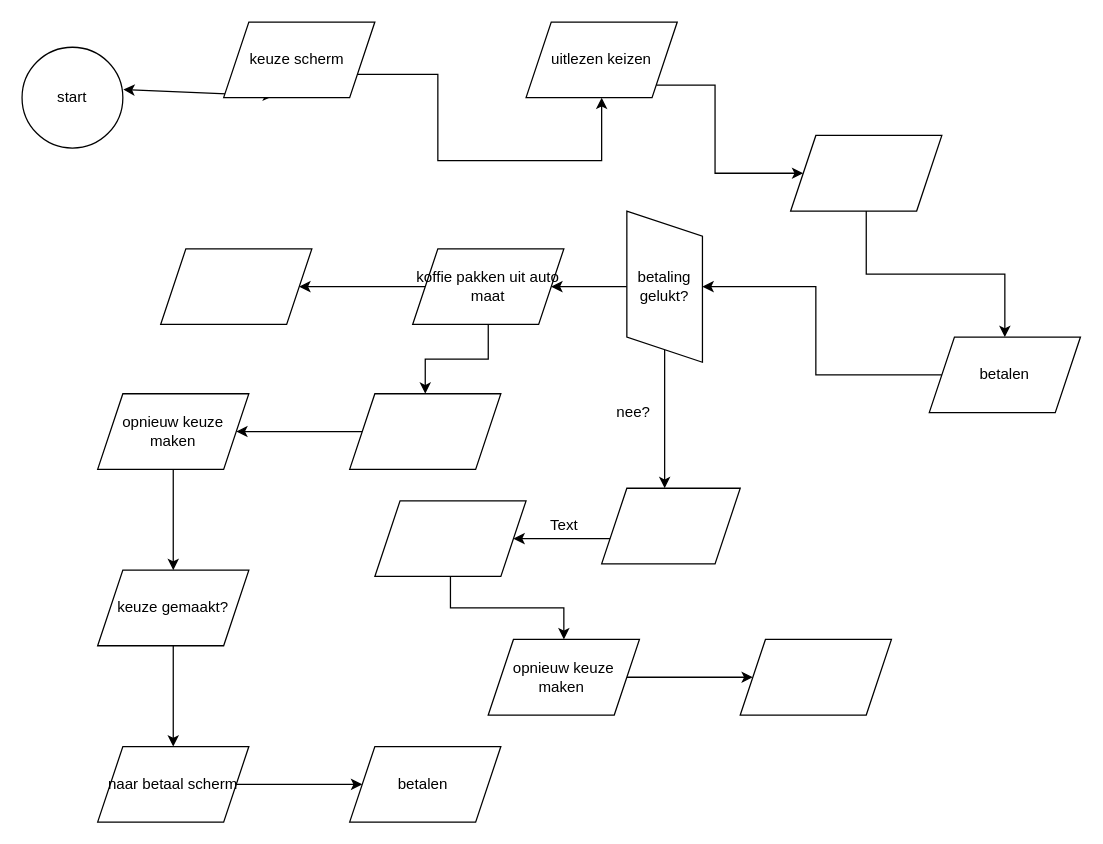
The diagram is 1103 pixels wide and 844 high, and some of its shapes have lost their labels. The box of each missing label's shape, as (x1, y1, x2, y2) in pixels:
bedrag: (789, 134, 942, 211)
betaling niet gelukt: (600, 487, 740, 564)
koffie apparaat gaat weer naar keuze scherm: (348, 392, 501, 469)
opnieuw betalen: (739, 638, 891, 715)
terug naar het begin scherm: (374, 500, 526, 576)
weg lopen met koffie: (159, 248, 312, 324)
